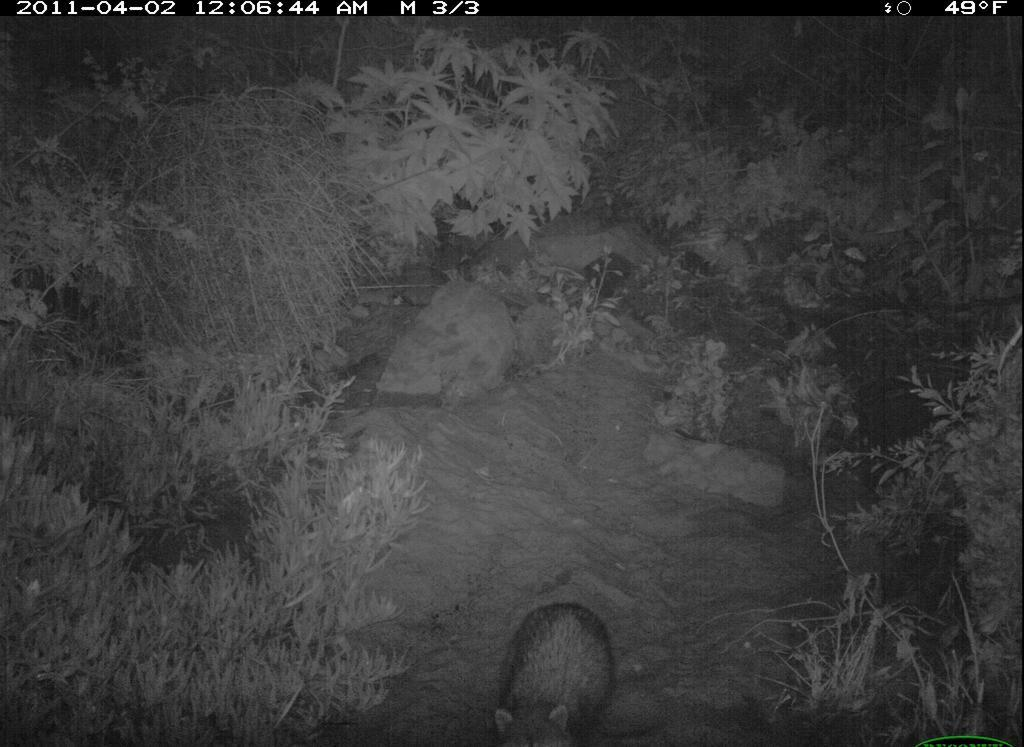raccoon: (482, 594, 623, 747)
